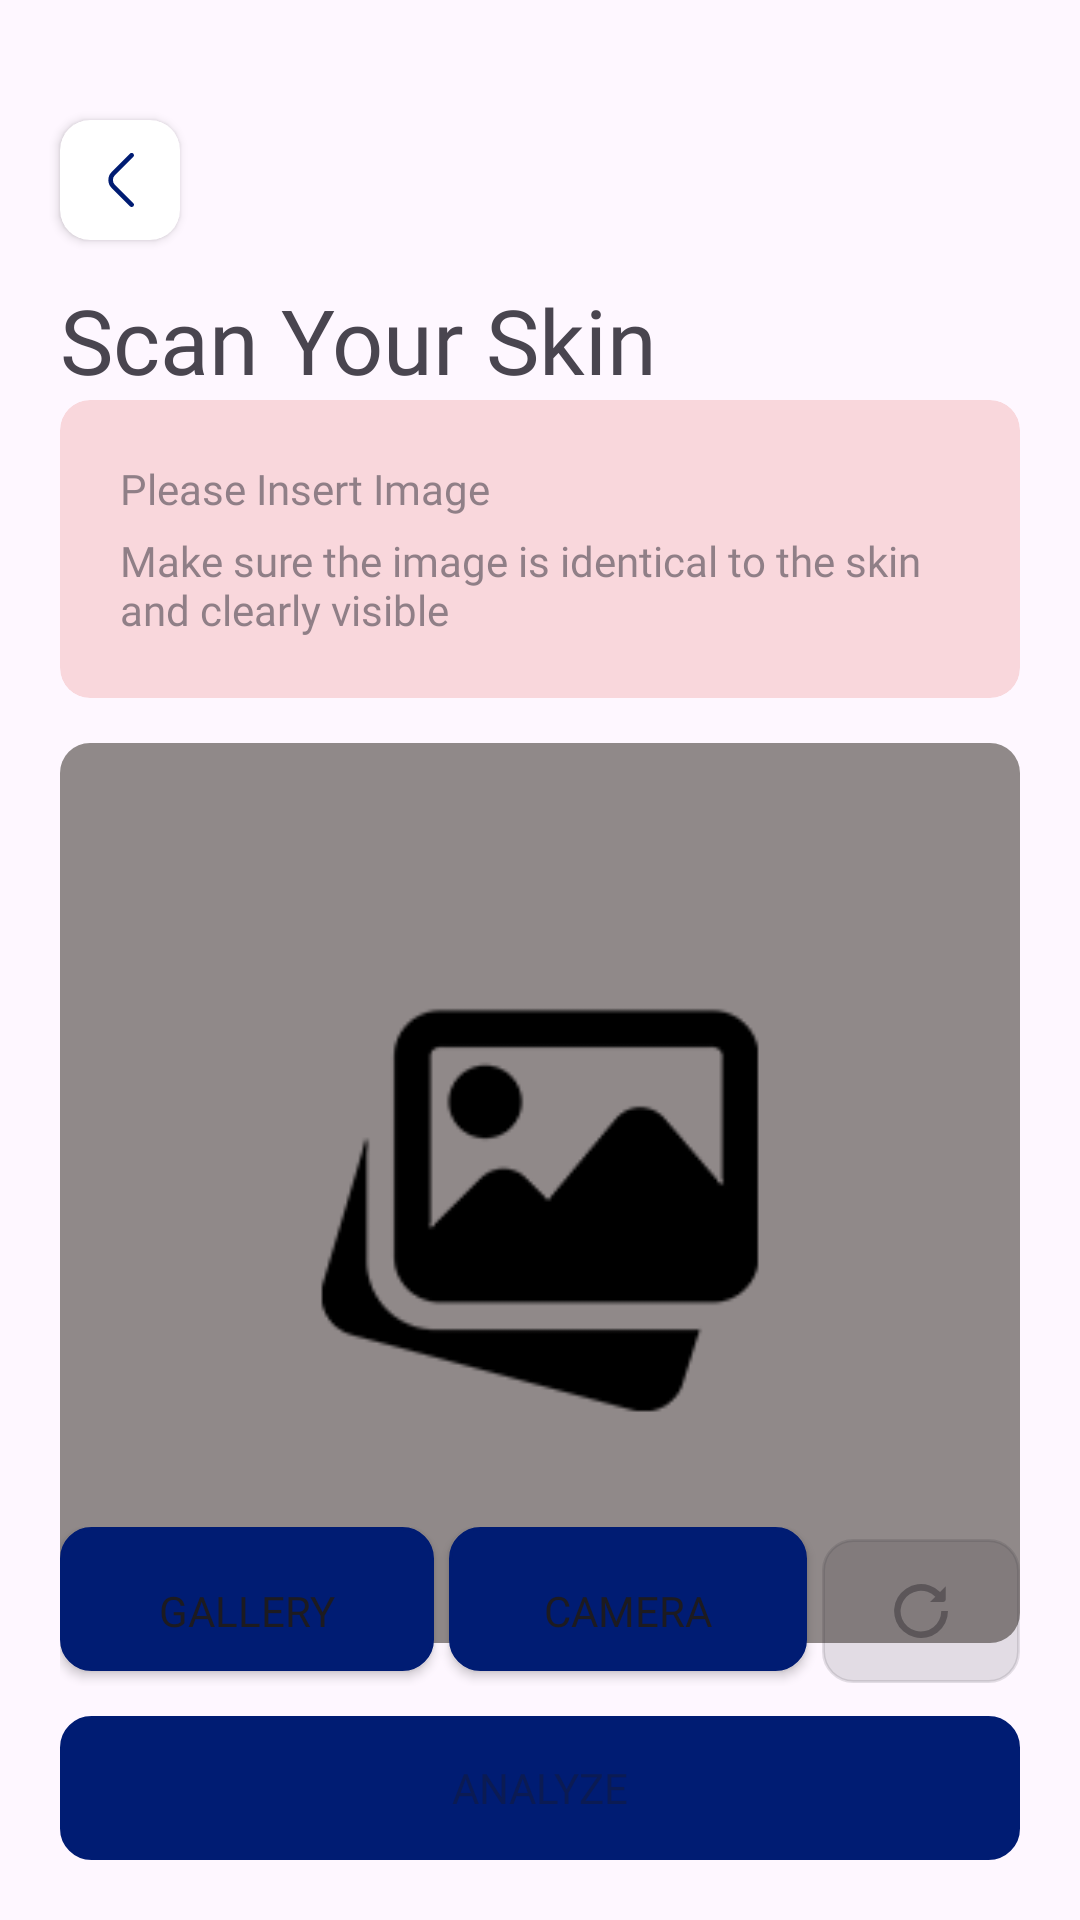

Icons on this 1080 x 1920 Android screen, each with the point to tap as (x=x, y=y):
back: (x=120, y=180)
